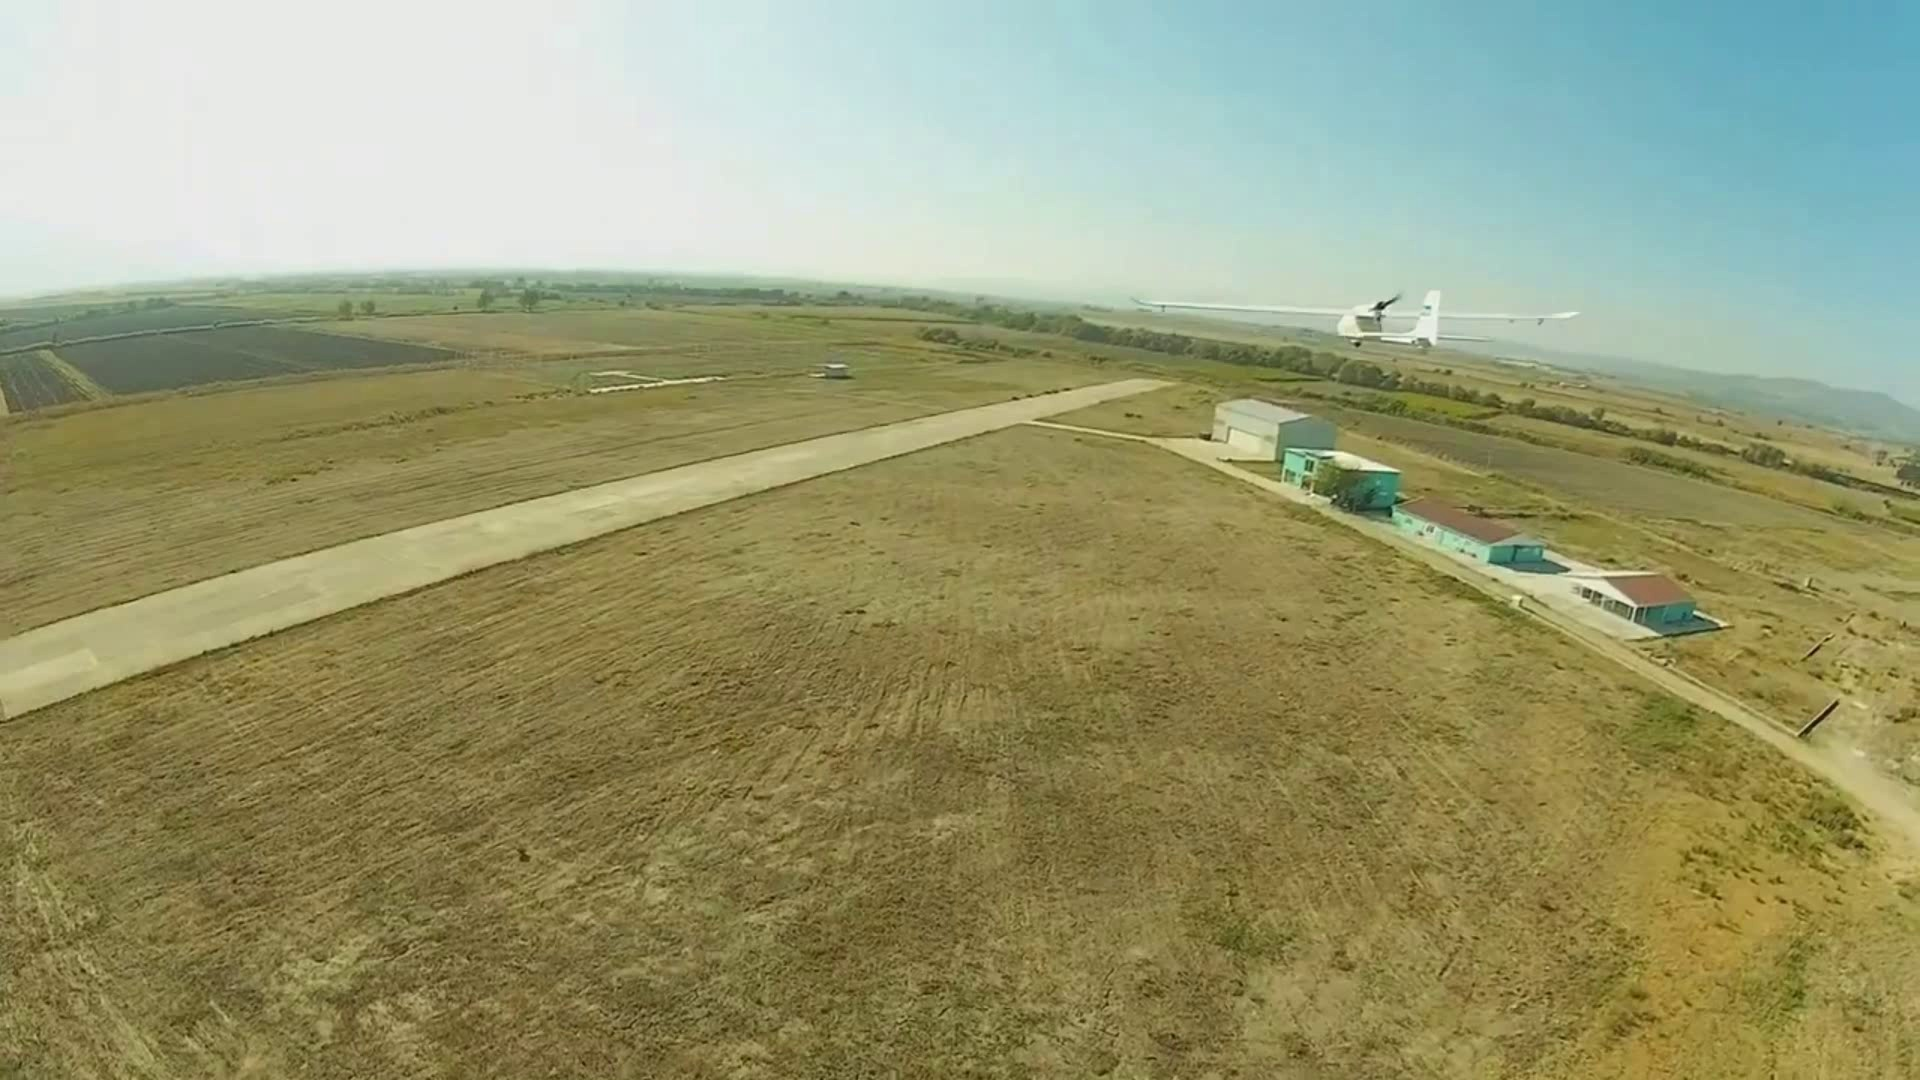airplane: (1336, 289, 1440, 349)
